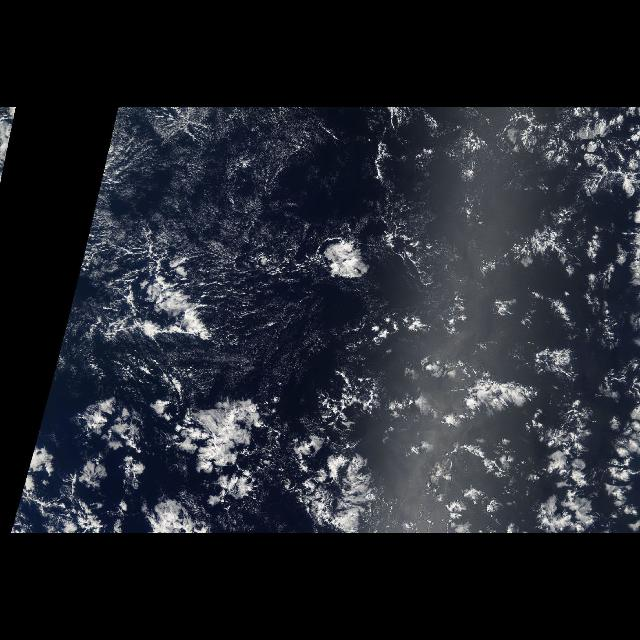Flower: (71, 109, 639, 533)
Sugar: (79, 107, 313, 369)
